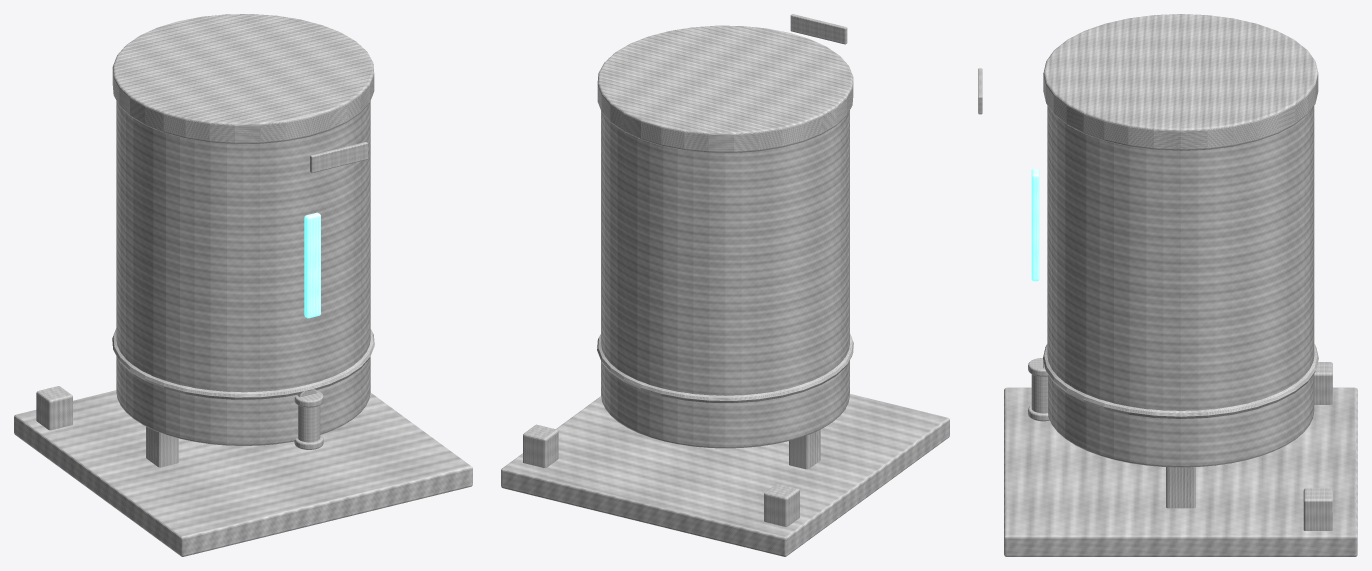
File: fluid_buffer_variant_a.glb
The picture shows the model from 3 angles, left to right: view 1: azimuth 30°, elevation 25°; view 2: azimuth 150°, elevation 25°; view 3: azimuth 270°, elevation 25°; orthographic projection. The views are drawn at different scales.
Parts seen in each view (by area): view 1: Tank shell, Foundation, Tank top cap, Tank seam.001, Level indicator, Service foot, Asset ID plate.001, Tank support, Pipe segment; view 2: Tank shell, Foundation, Tank top cap, Tank seam.001, Service foot, Service foot.001, Asset ID plate.001, Tank support; view 3: Tank shell, Foundation, Tank top cap, Tank seam.001, Service foot.001, Tank support.001, Level indicator, Service foot, Pipe segment.
Boxes of the visible parts, box(x1,y1,x2,y2) form: Tank shell: box(116, 101, 370, 445); Foundation: box(14, 390, 472, 556); Tank top cap: box(112, 14, 374, 144); Tank seam.001: box(112, 328, 374, 399); Level indicator: box(304, 212, 320, 318); Service foot: box(36, 386, 72, 430); Asset ID plate.001: box(310, 142, 367, 172); Tank support: box(146, 426, 178, 467); Pipe segment: box(298, 405, 320, 442); Tank shell: box(601, 110, 849, 448); Foundation: box(501, 394, 949, 556); Tank top cap: box(597, 25, 853, 152); Tank seam.001: box(597, 334, 853, 402); Service foot: box(764, 483, 799, 526); Service foot.001: box(523, 424, 558, 467); Asset ID plate.001: box(790, 14, 847, 44); Tank support: box(789, 429, 820, 469); Tank shell: box(1047, 105, 1314, 467); Foundation: box(1004, 387, 1357, 556); Tank top cap: box(1043, 14, 1318, 150); Tank seam.001: box(1043, 344, 1318, 418); Service foot.001: box(1303, 488, 1332, 530); Tank support.001: box(1166, 467, 1195, 508); Level indicator: box(1031, 168, 1039, 281); Service foot: box(1314, 362, 1332, 404); Pipe segment: box(1031, 374, 1047, 413).
Size of what is drawn, in the model's own units: 3.6 by 4.62 by 3.86.
5 materials, 5 textured.
